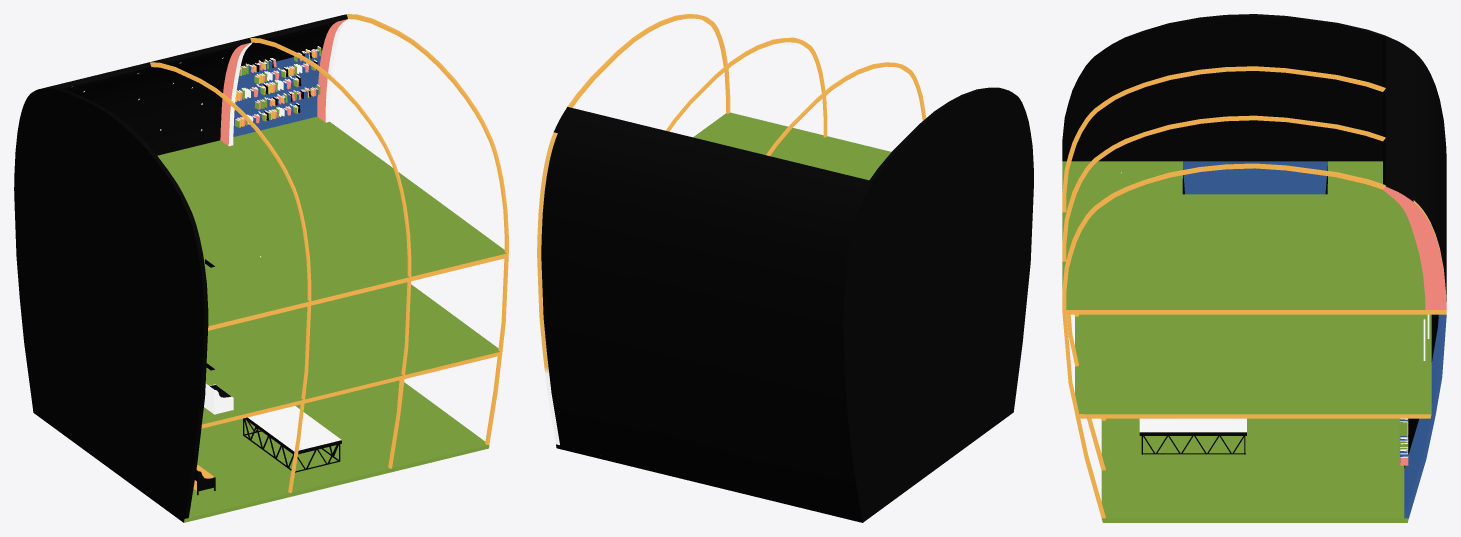
3 renders of one model, left to right at view 1: azimuth 30°, elevation 25°; view 2: azimuth 150°, elevation 25°; view 3: azimuth 270°, elevation 25°, orthographic.
Visible parts, largest first — view 1: 挤压, 立方体_1_12, 立方体_1_8, chair_5; view 2: 挤压; view 3: 挤压, 立方体_1_12, 立方体_1_8.
Part boxes in pixels (box(x1,y1,x2,y2)): 挤压: box(14, 14, 508, 522); 立方体_1_12: box(244, 406, 341, 454); 立方体_1_8: box(243, 418, 340, 472); chair_5: box(204, 383, 233, 414); 挤压: box(537, 14, 1033, 522); 挤压: box(1062, 14, 1446, 522); 立方体_1_12: box(1139, 418, 1246, 435); 立方体_1_8: box(1141, 436, 1245, 454).
Size of the model in its own units: 1080 by 1197 by 1164.
